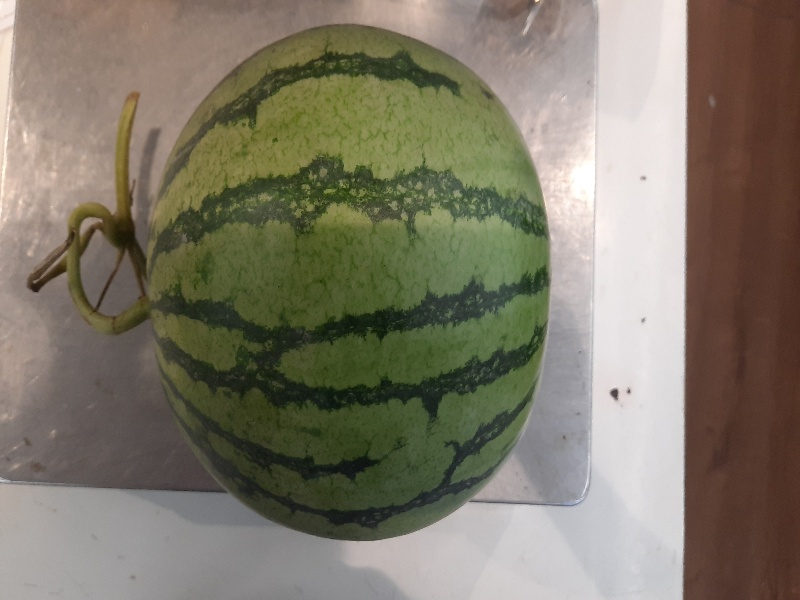fruit: (27, 21, 558, 546)
